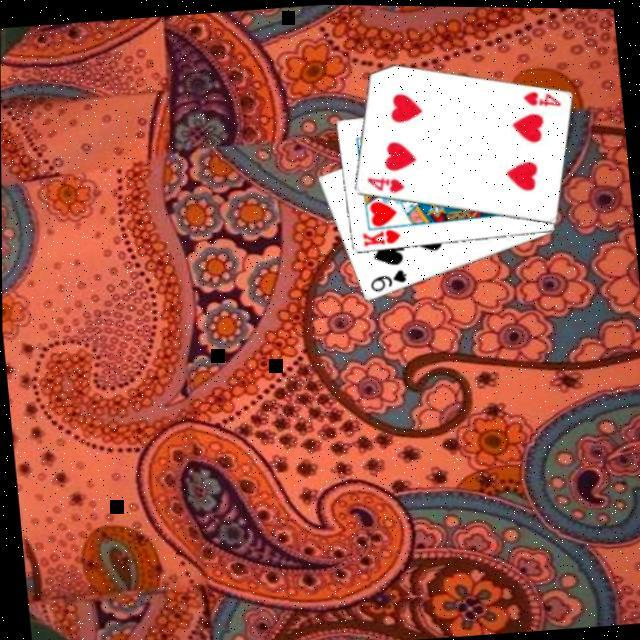4H: (362, 170, 406, 198), (518, 85, 562, 112)
9S: (365, 265, 409, 295)
KH: (357, 224, 402, 250)
